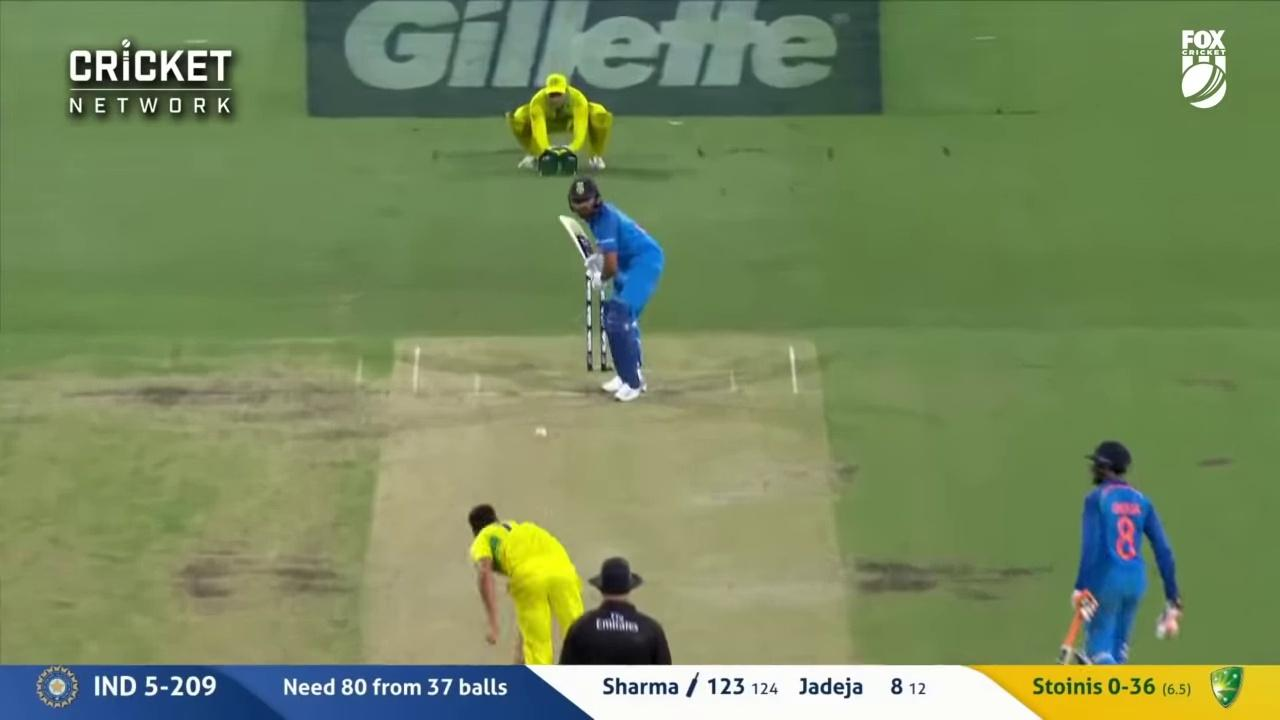batsman: (560, 179, 665, 399)
